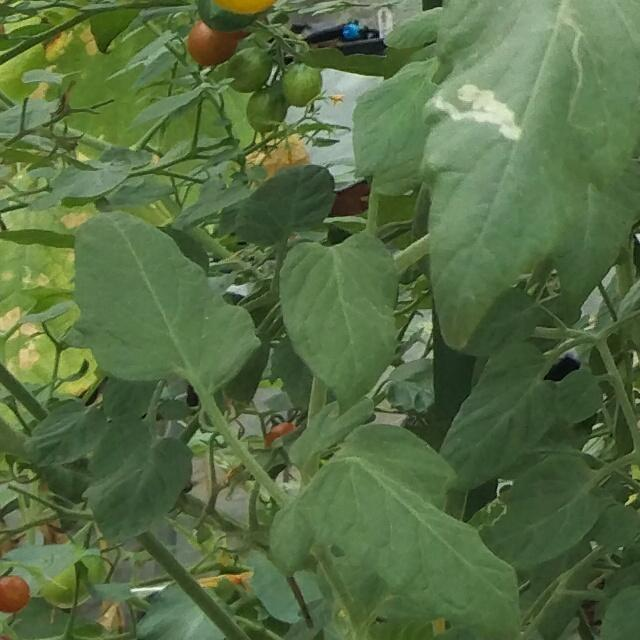Healthy: (292, 419, 526, 640), (67, 207, 270, 398), (280, 223, 403, 415), (437, 337, 566, 491), (81, 413, 196, 551)
Leaf_Miner: (426, 0, 640, 353), (463, 450, 614, 570)
